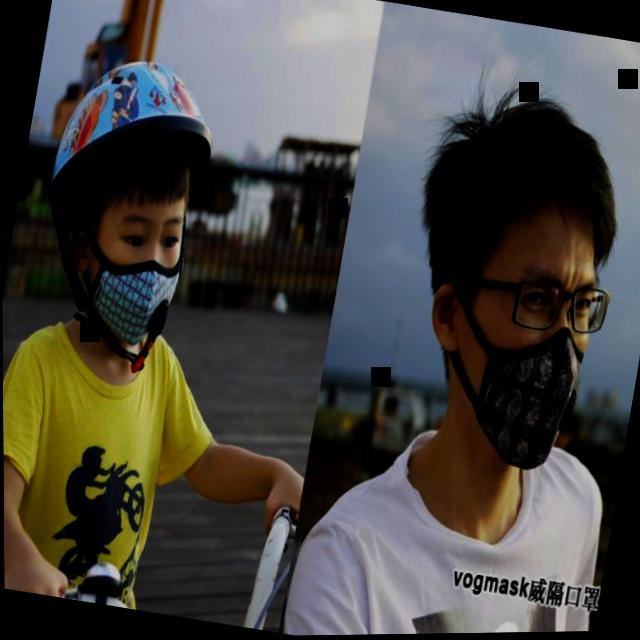Mask: (376, 71, 640, 498), (9, 32, 242, 374)
